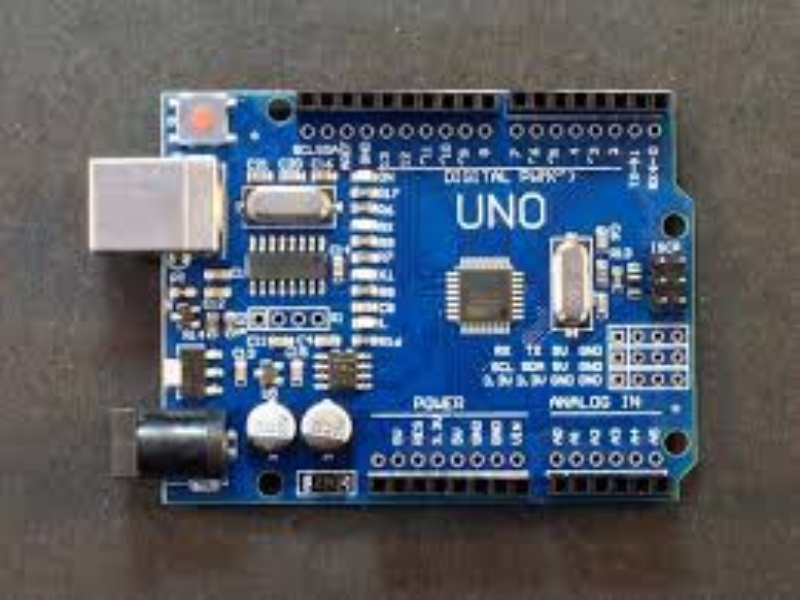uno: (62, 50, 712, 515)
